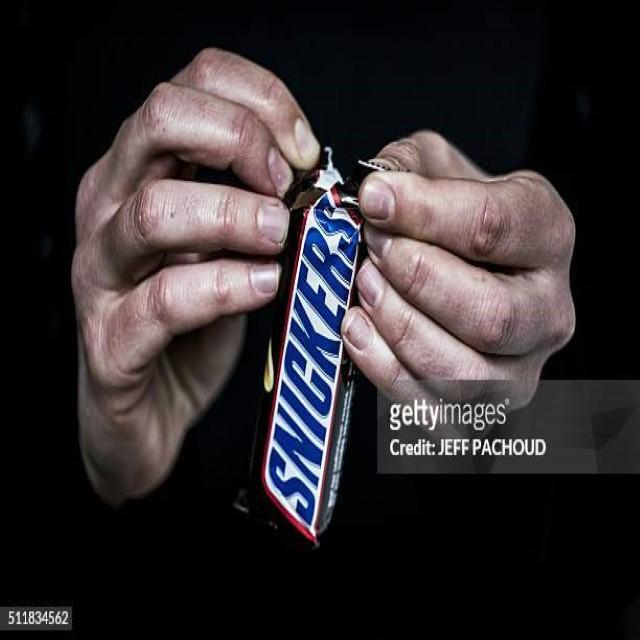snickers_chocolate: (275, 155, 353, 530)
